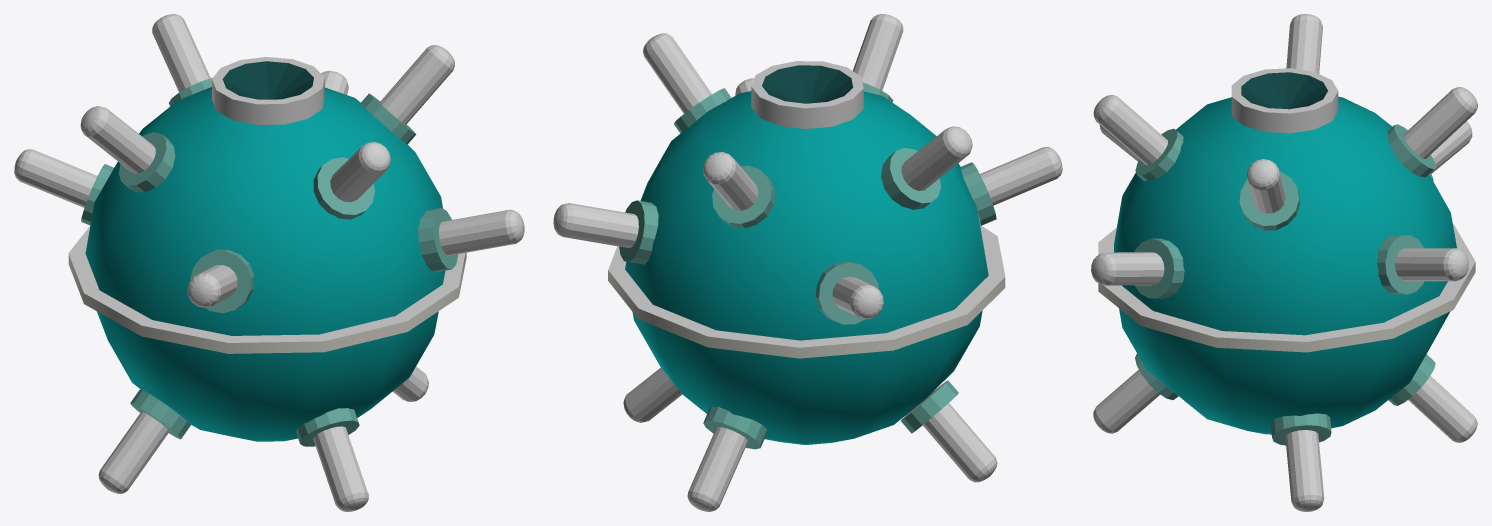
Rendered from blue-bomb.fbx.
The picture shows the model from 3 angles, left to right: view 1: azimuth 30°, elevation 25°; view 2: azimuth 150°, elevation 25°; view 3: azimuth 270°, elevation 25°; orthographic projection. The views are drawn at different scales.
Visible parts, largest first — view 1: Sphere.002; view 2: Sphere.002; view 3: Sphere.002.
Boxes of the visible parts, <box> form: Sphere.002: <box>14,14,524,511</box>; Sphere.002: <box>553,14,1062,511</box>; Sphere.002: <box>1091,14,1477,511</box>.
Bounding box in the file's own units: 220 × 222 × 221.
